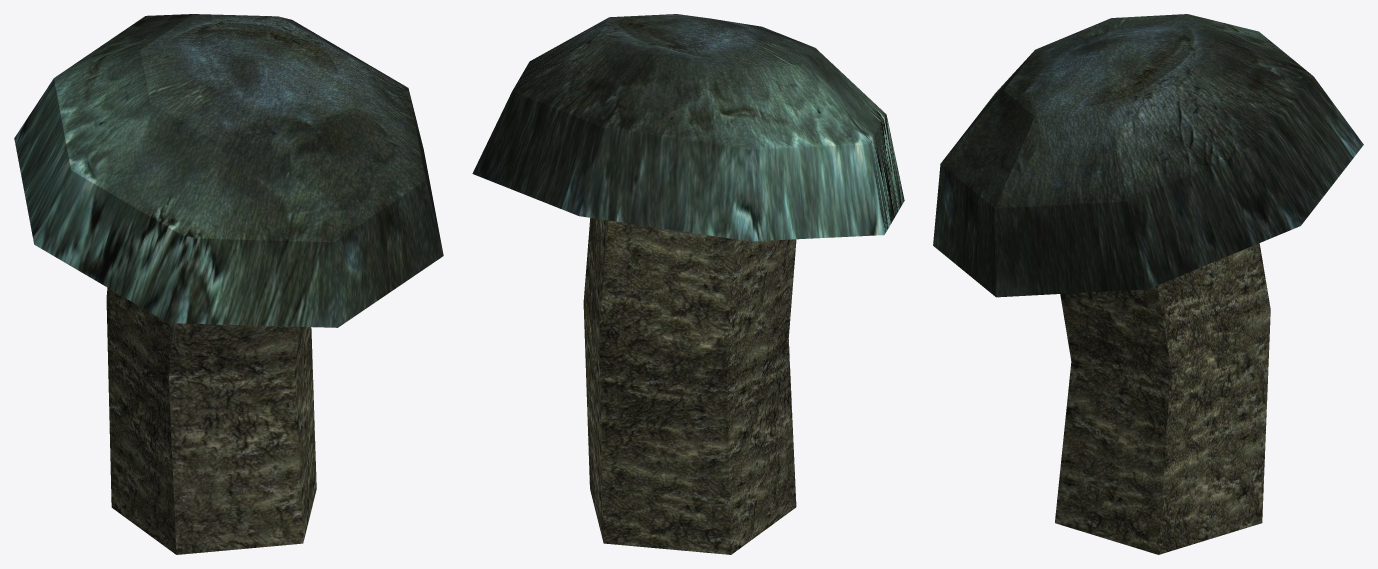
Rendered from ITPL.glb.
3 views of the same model, side by side, from view 1: azimuth 30°, elevation 25°; view 2: azimuth 150°, elevation 25°; view 3: azimuth 270°, elevation 25° (orthographic).
Visible parts, largest first — view 1: zengin; view 2: zengin; view 3: zengin.
Boxes of the visible parts, x1,y1,x2,y2 form: zengin: (14,14,443,554); zengin: (472,14,904,554); zengin: (933,14,1363,554).
Size of the model in its own units: 0.2729 by 0.3182 by 0.2642.
Materials: 1 (1 with a texture image).
